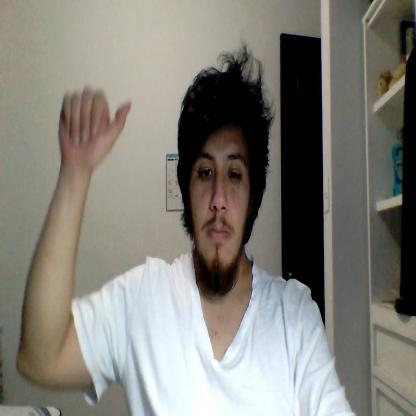A: (59, 85, 131, 162)
